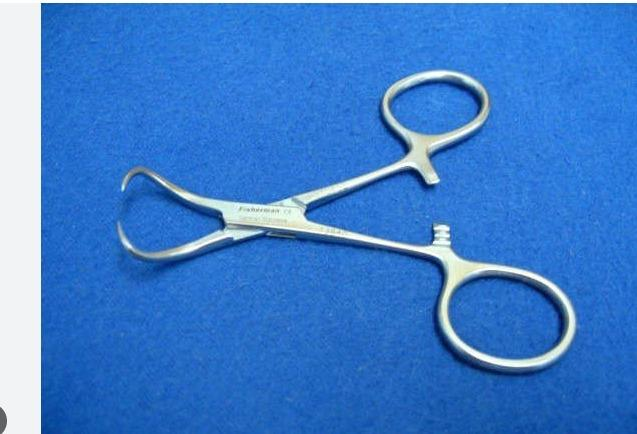Backhaus Towel Clamp: (114, 65, 583, 383)
